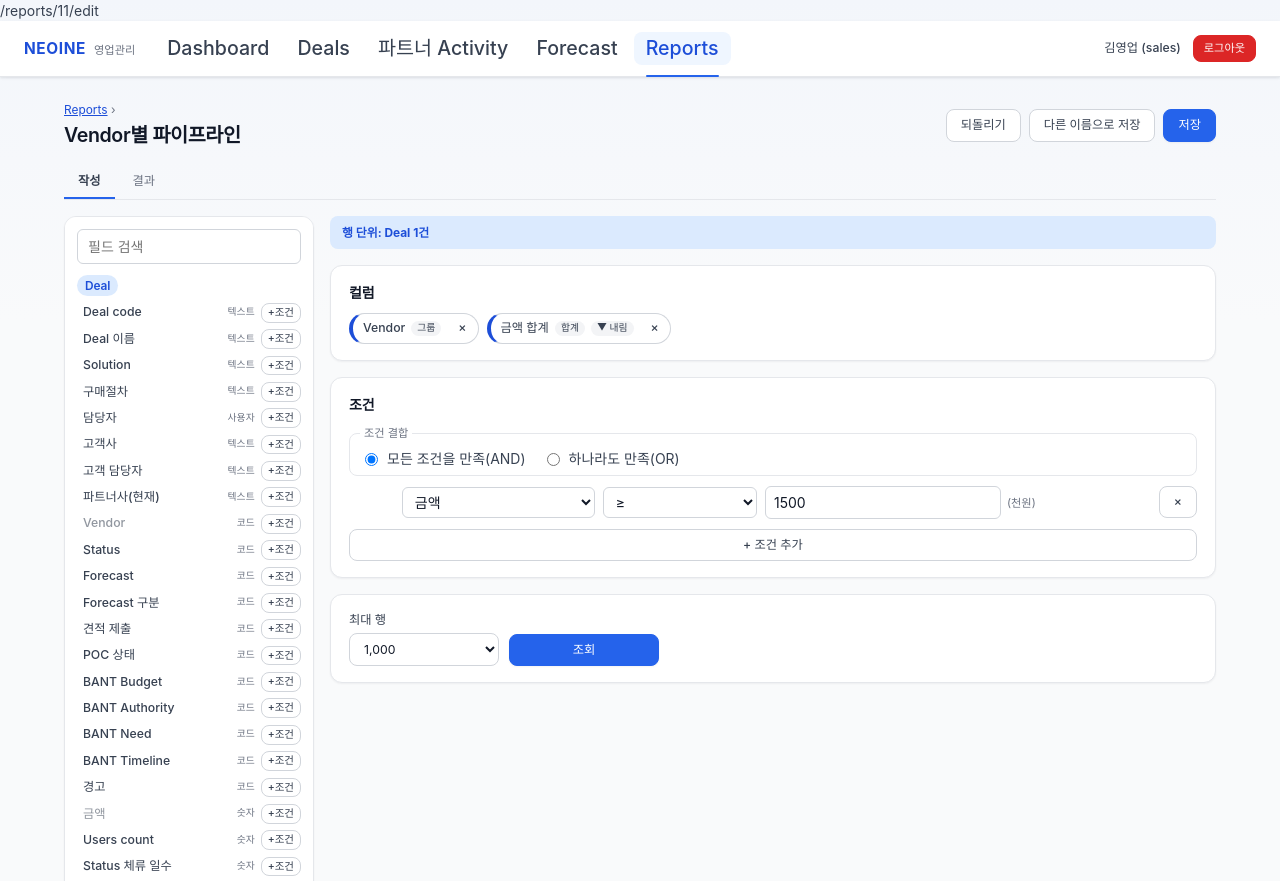
Scenario: 다른 이름으로 저장은 지난 결과를 새 설계의 결과로 넘기지 않는다 (리뷰 Major 2) › runs again in the new editor when the design changed after the last run
Click the button with aria-label "Deal code 컬럼에 추가" at (149, 313), box [77,300,222,325]
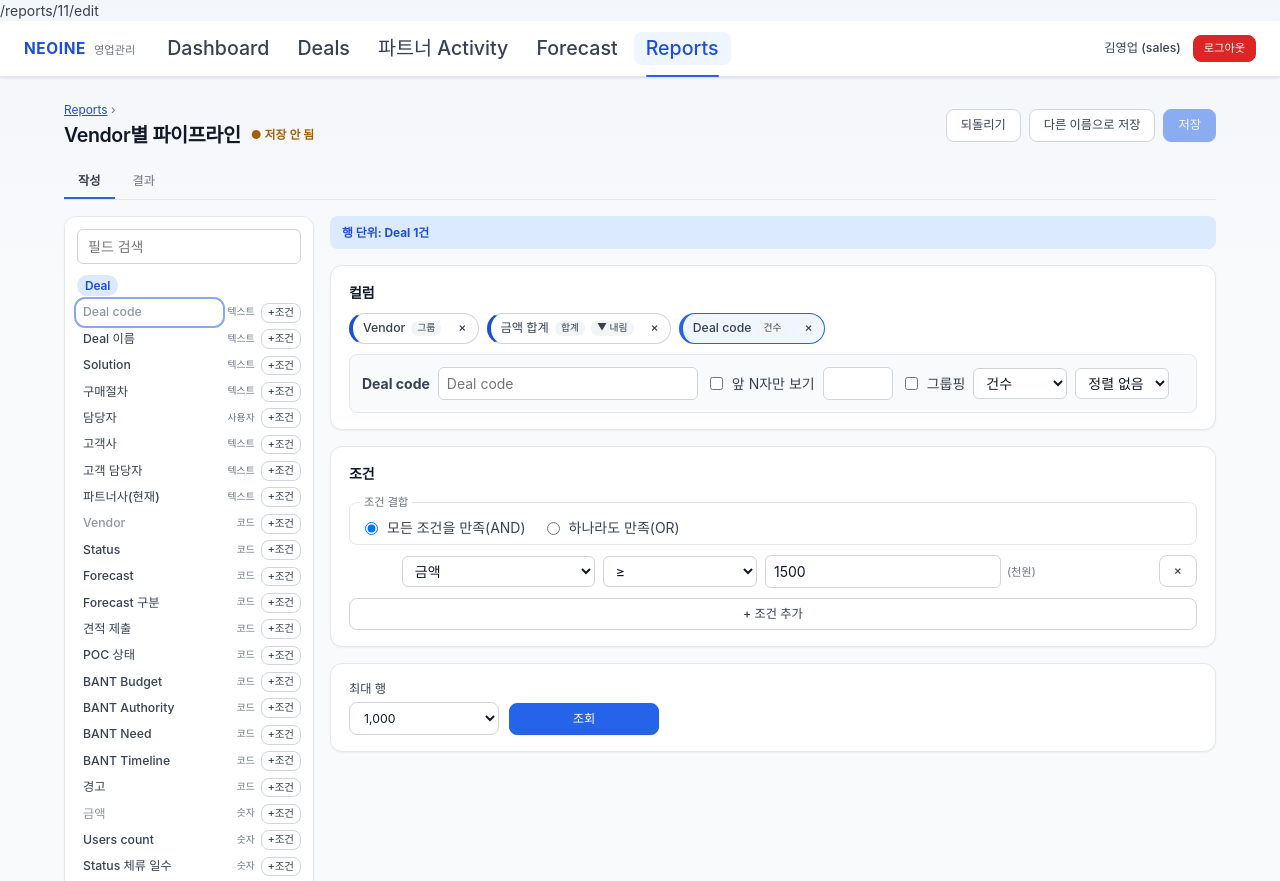
Click the button "Deal code 건수" at (740, 329), box [685,316,796,341]
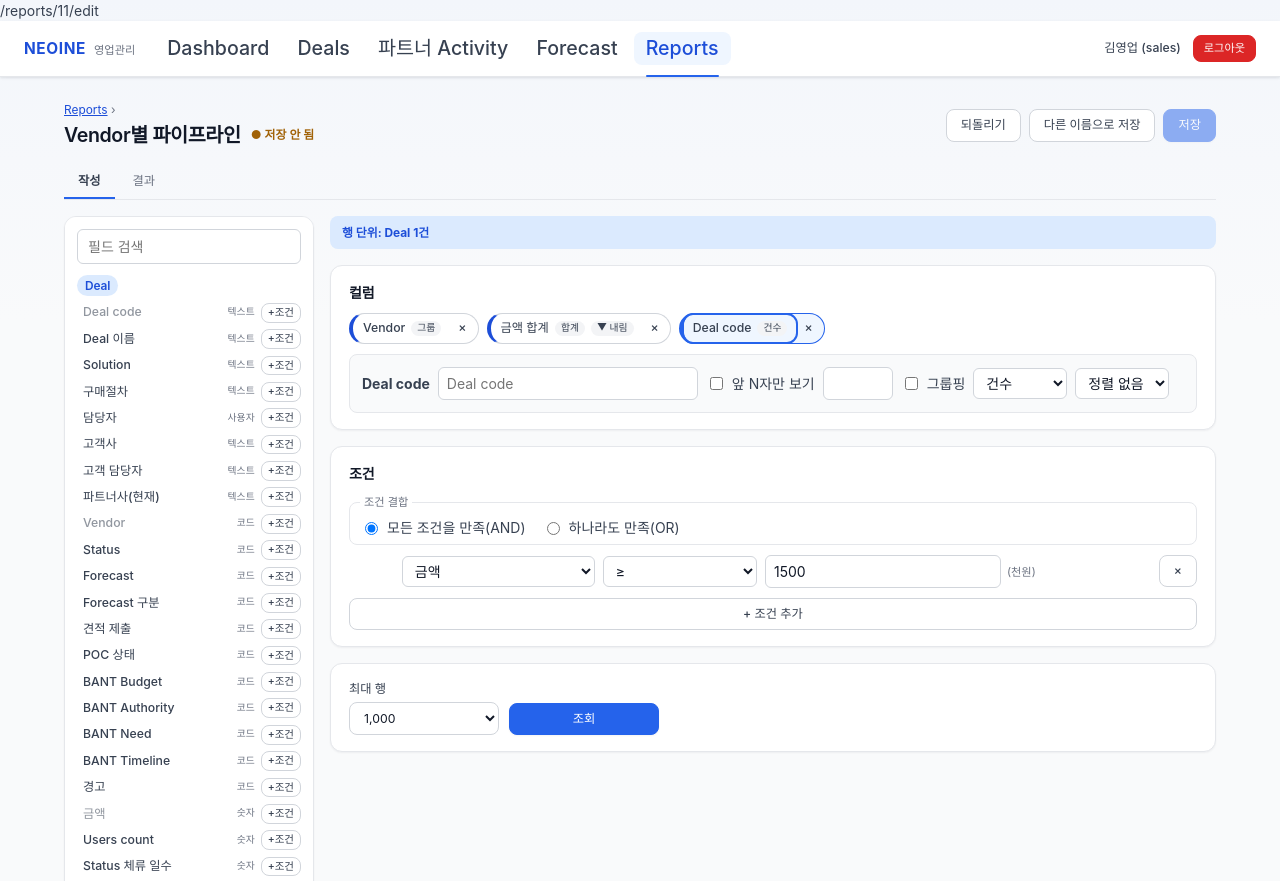
Select "건수" in the dropdown named "집계" at (1020, 383), box [973,368,1067,399]
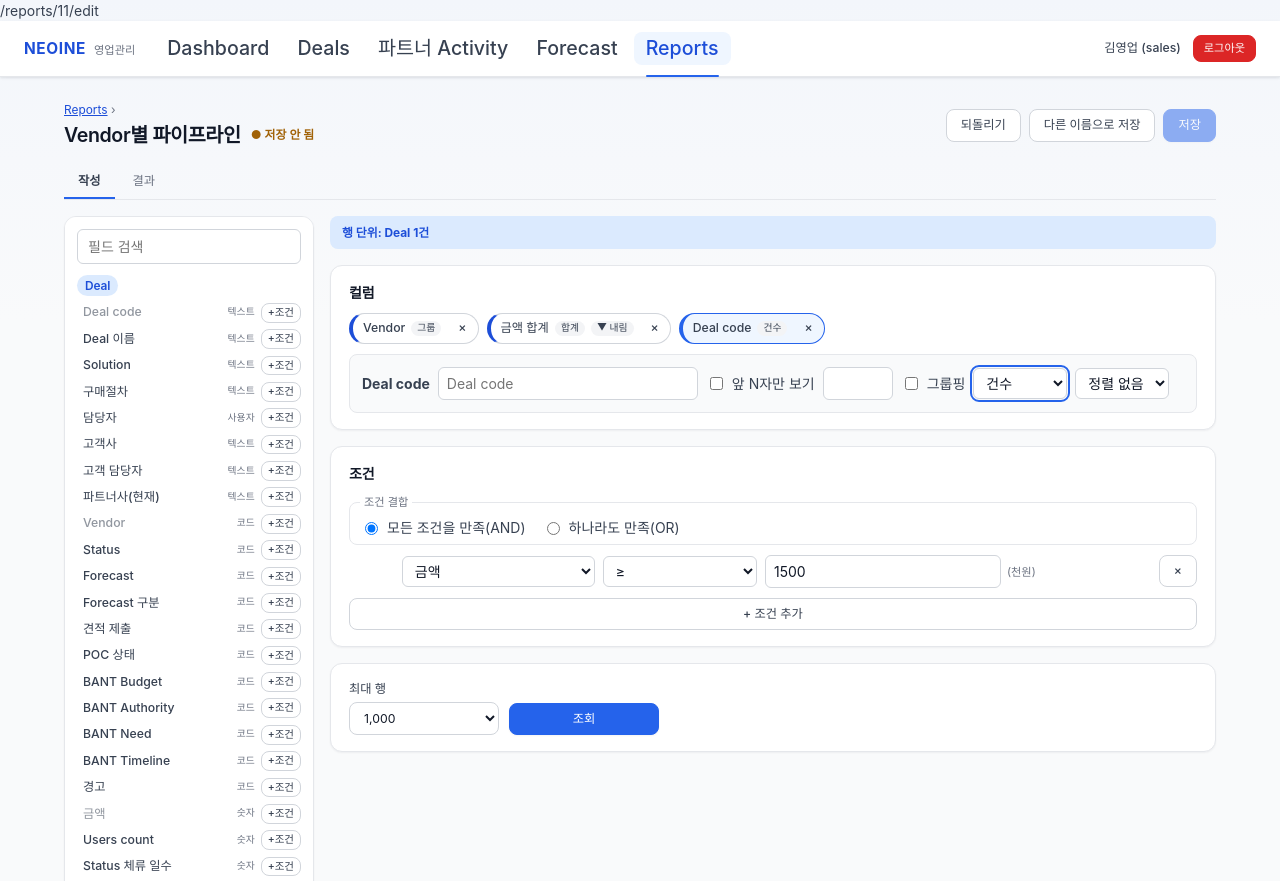
Click the button "다른 이름으로 저장" at (1092, 126), box [1029,109,1156,142]
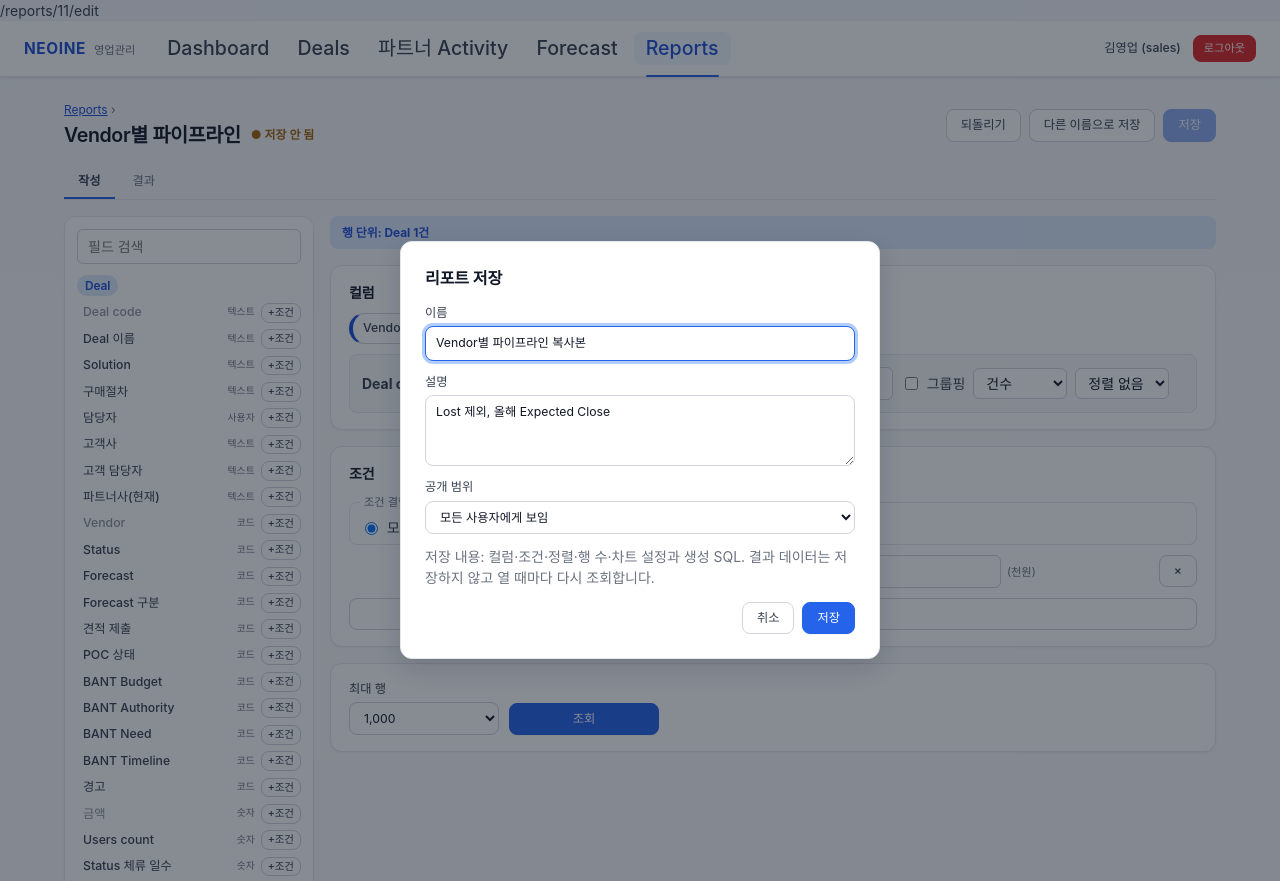
Click the button "저장" at (829, 618), box [802,602,855,634]
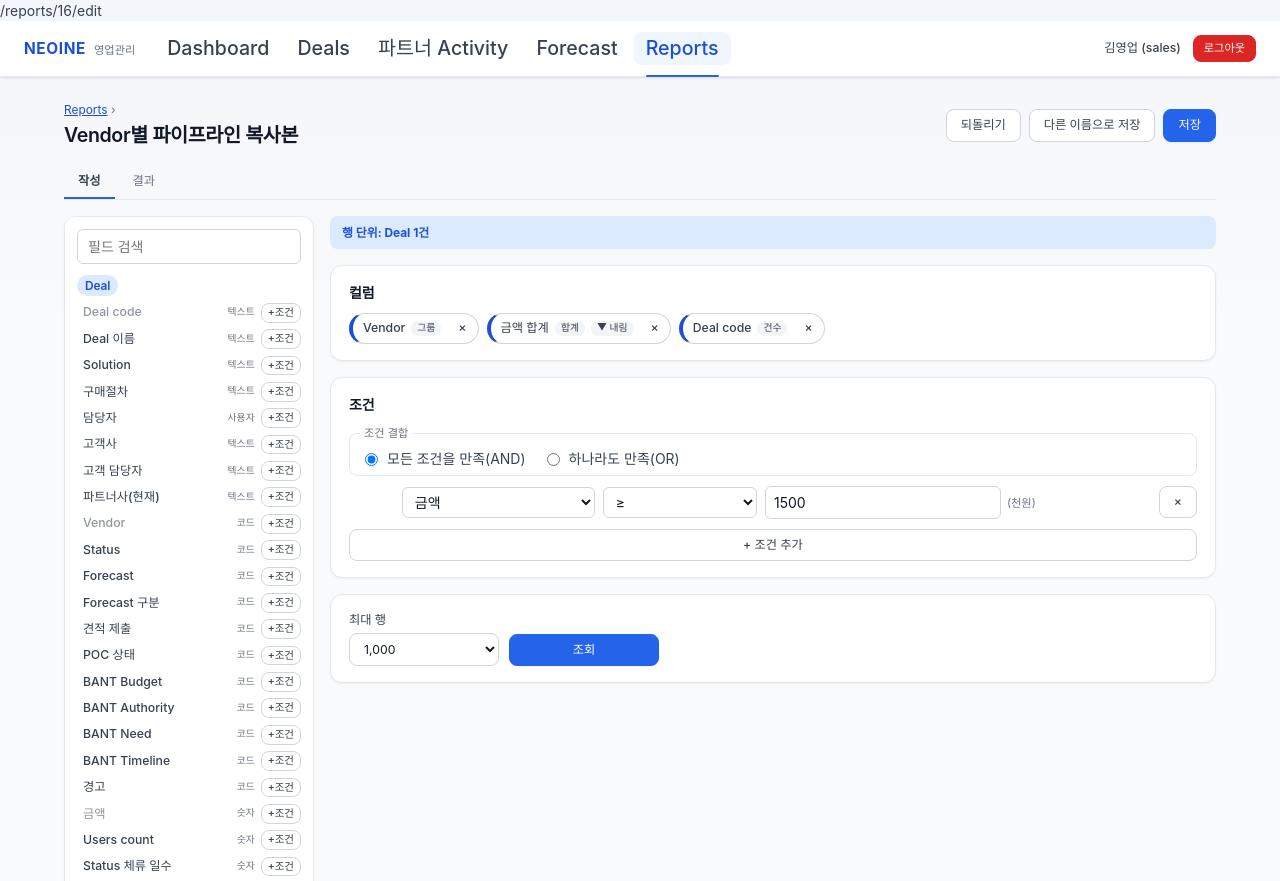
Now the text with test id "location" reads "/reports/16/edit", box [0,2,102,19]
Click the tab "결과" at (144, 182), box [118,166,169,199]
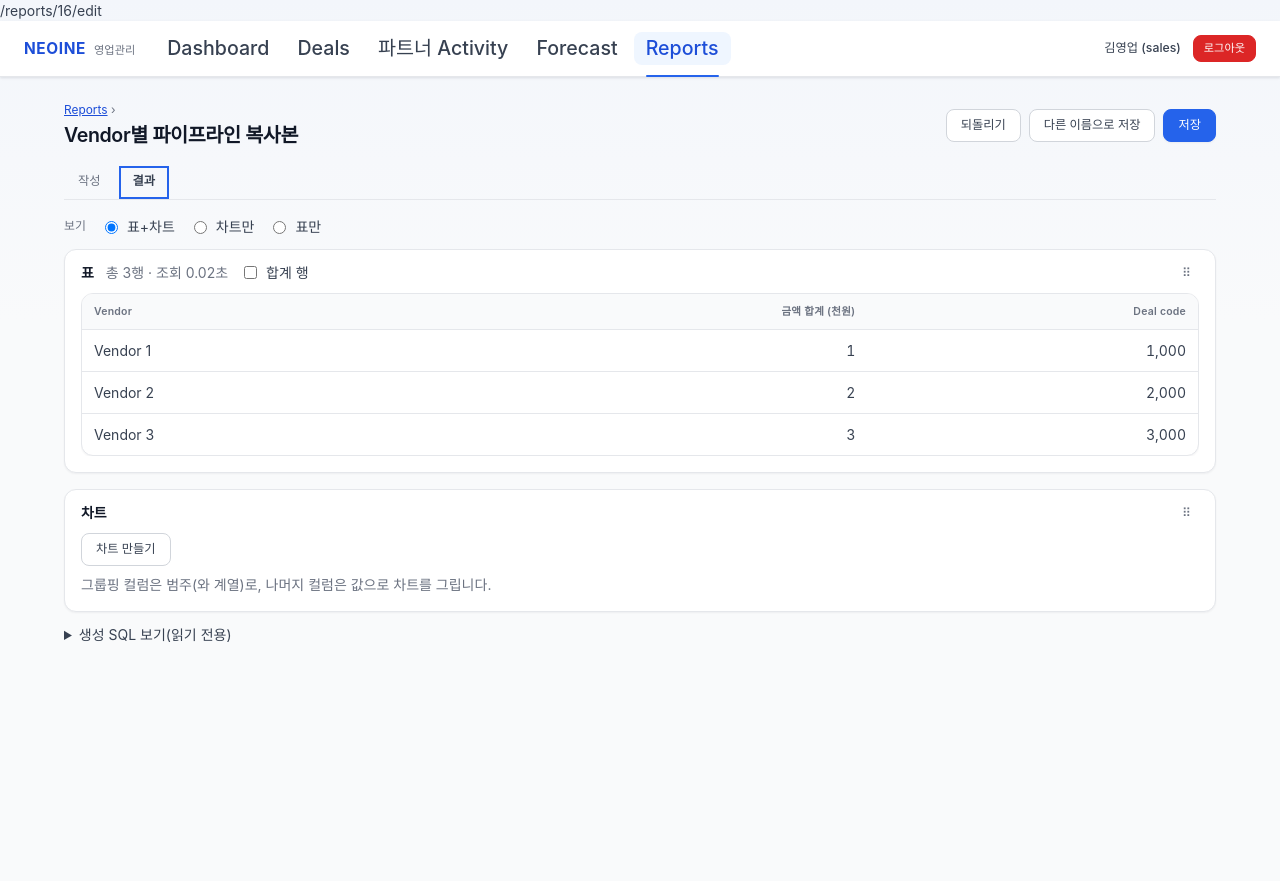
Expected: the text "● 저장 안 됨" is not shown
Now the number of column headings is 3, box [82,294,445,330]; [445,294,867,330]; [867,294,1198,330]
